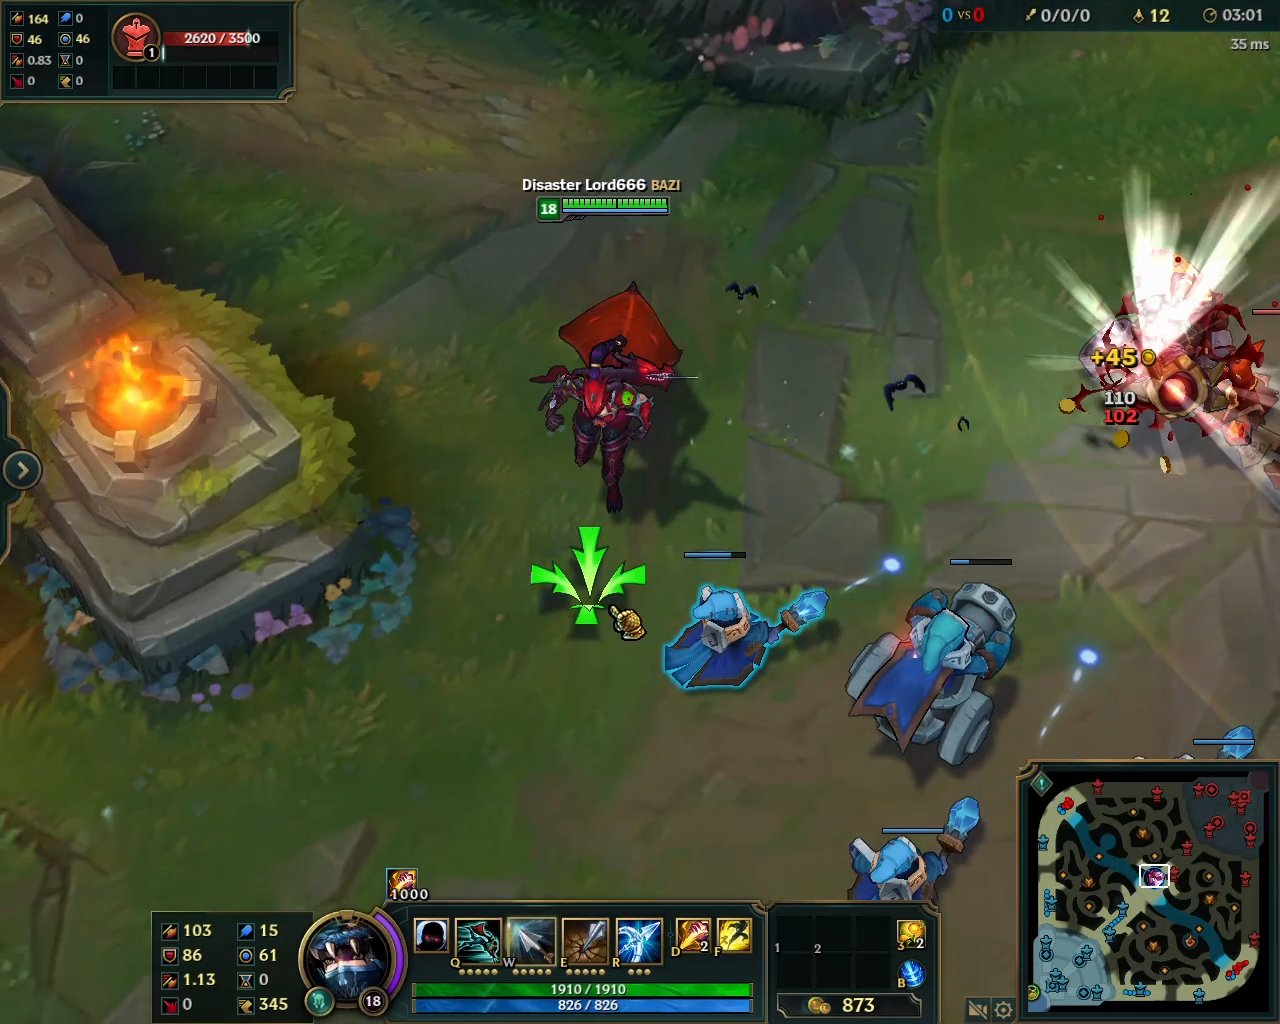Vayne: (526, 272, 709, 526)
